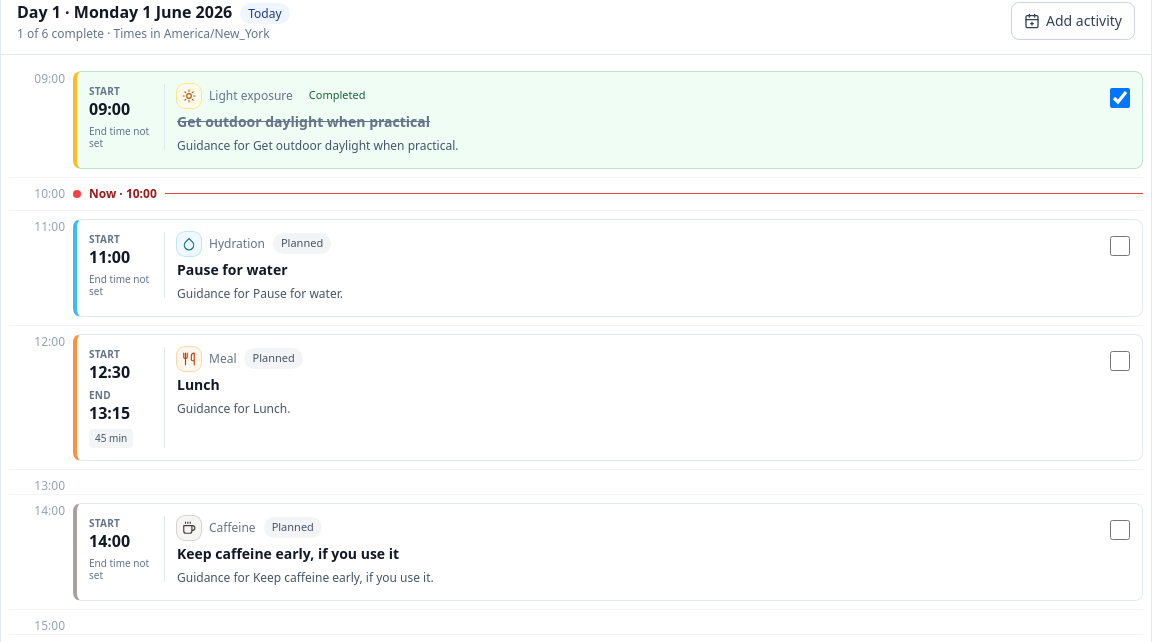
DailyDashboard › keeps progress unchanged and reports an error when saving fails
(page scrolled)
Click the checkbox named "Mark complete: Lunch at 12:30" at (1120, 360), box x1=1110 y1=350 x2=1130 y2=370
(page scrolled)
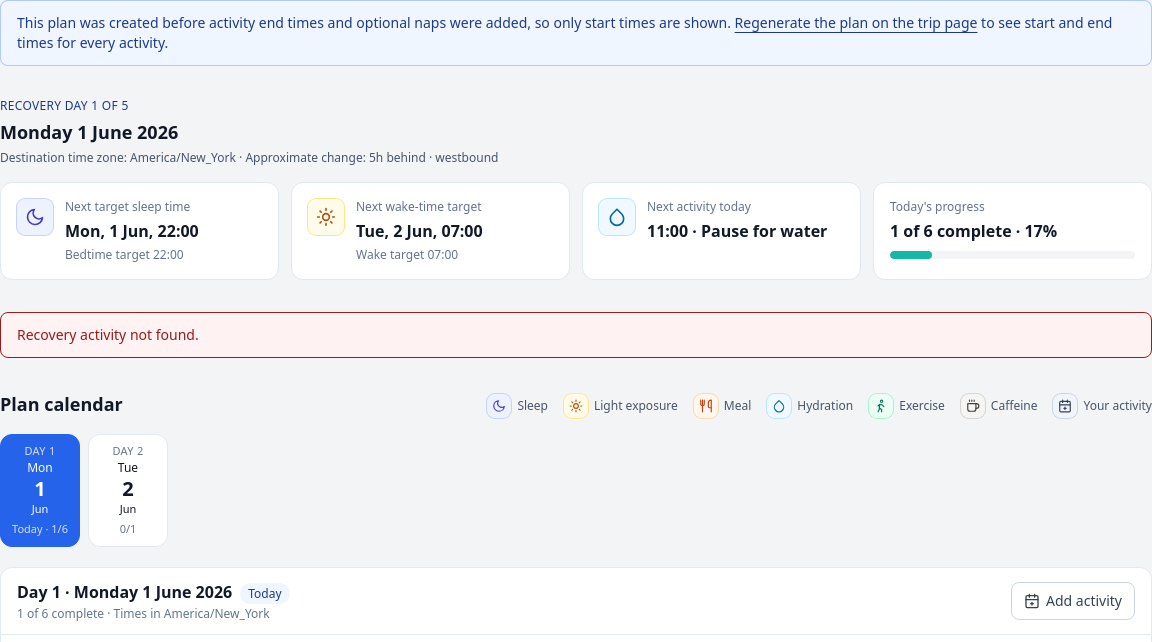
Expected: the text "1 of 6 complete · 17%" is shown, x1=890 y1=220 x2=1057 y2=242
Expected: the message "Recovery activity not found." is shown, x1=0 y1=312 x2=1151 y2=358
